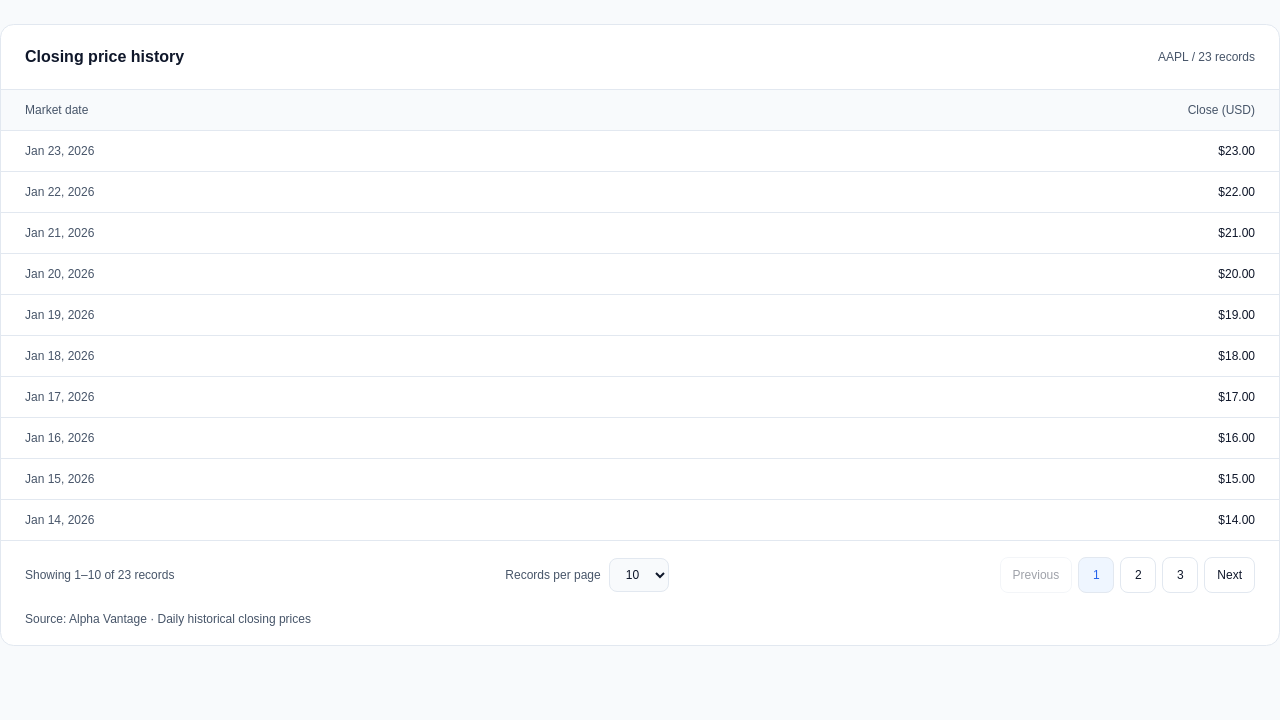
Test: Historical data pagination › renders a partial last page and clamps out-of-range navigation
Click the button named "Page 3": (1180, 575) [1162,557,1198,593]
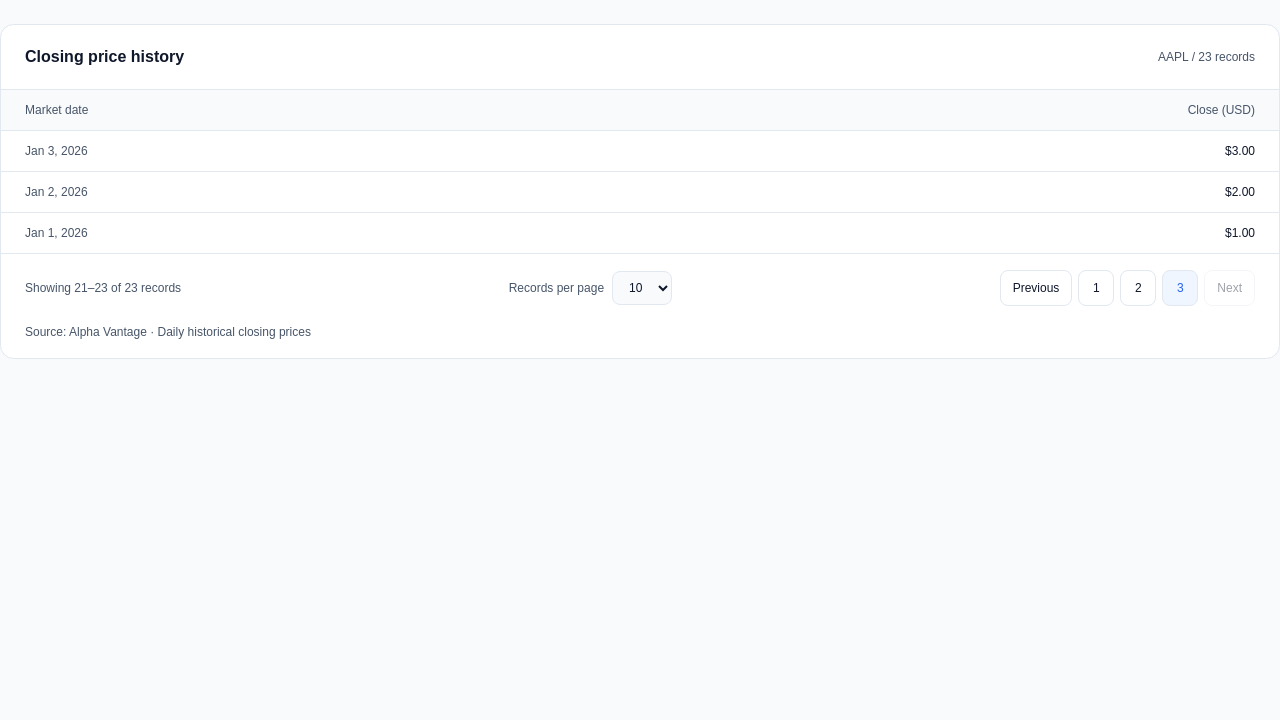
Check: the text "Showing 21–23 of 23 records" is shown, box [25,280,181,296]
